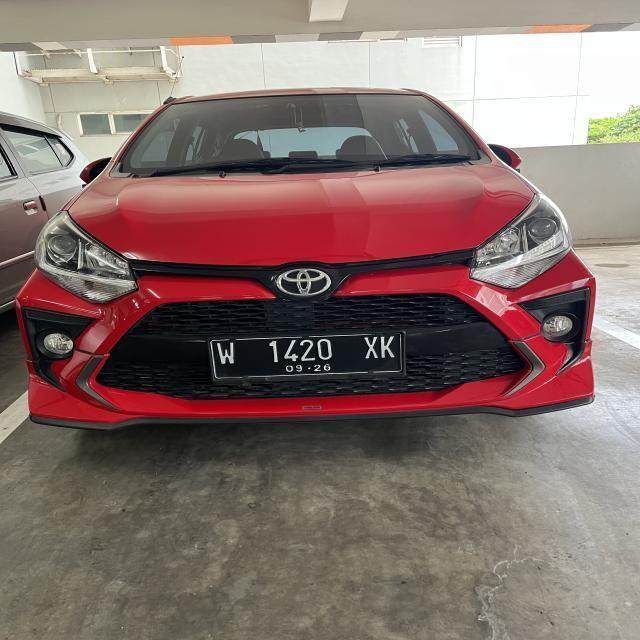0: (318, 338, 334, 362)
1: (268, 340, 282, 364)
2: (299, 338, 317, 364)
4: (281, 338, 298, 362)
K: (380, 336, 396, 360)
W: (215, 343, 239, 364)
X: (363, 336, 378, 362)
